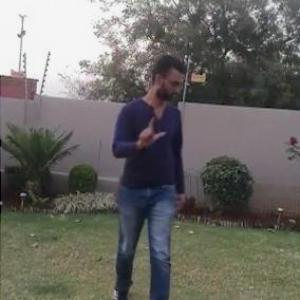land_hand: (134, 114, 168, 146)
